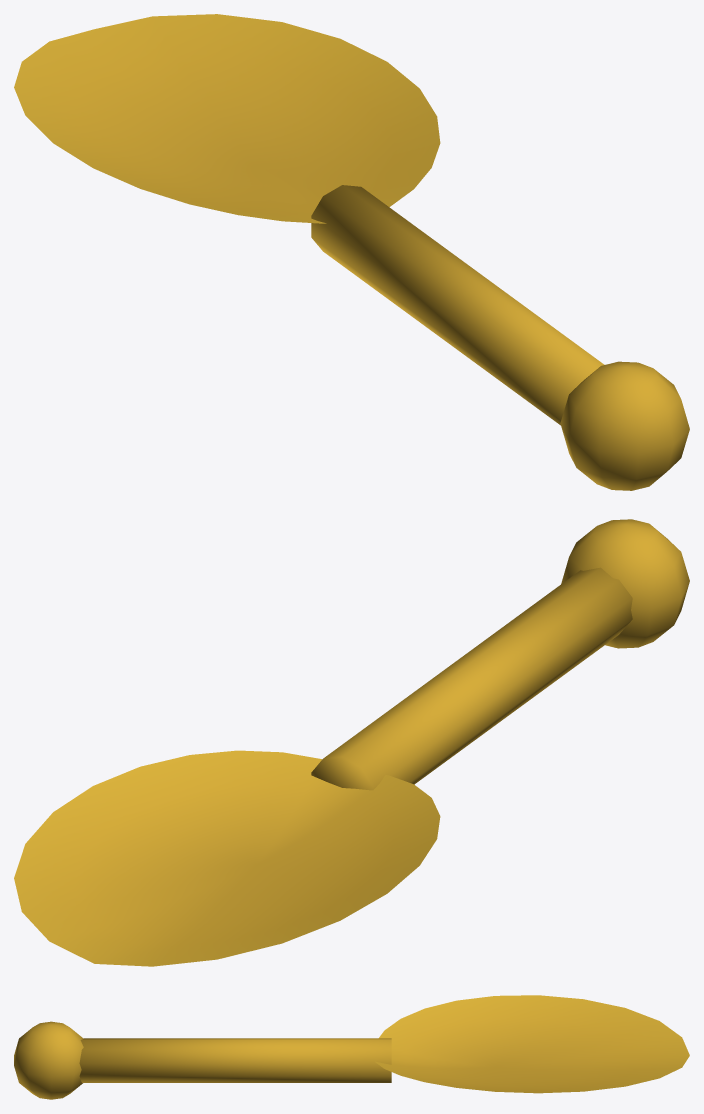
Rendered from Park_Shovel.fbx.
3 views of the same model, one above another, from view 1: azimuth 30°, elevation 25°; view 2: azimuth 150°, elevation 25°; view 3: azimuth 270°, elevation 25° (orthographic). The views are drawn at different scales.
Visible parts, largest first — view 1: Park_Shovel; view 2: Park_Shovel; view 3: Park_Shovel.
Part boxes in pixels (left/top/right/bottom): Park_Shovel: left=14, top=14, right=689, bottom=490; Park_Shovel: left=14, top=519, right=689, bottom=966; Park_Shovel: left=14, top=995, right=689, bottom=1099.
Size of the model in its own units: 2.25 by 0.76 by 6.55.
